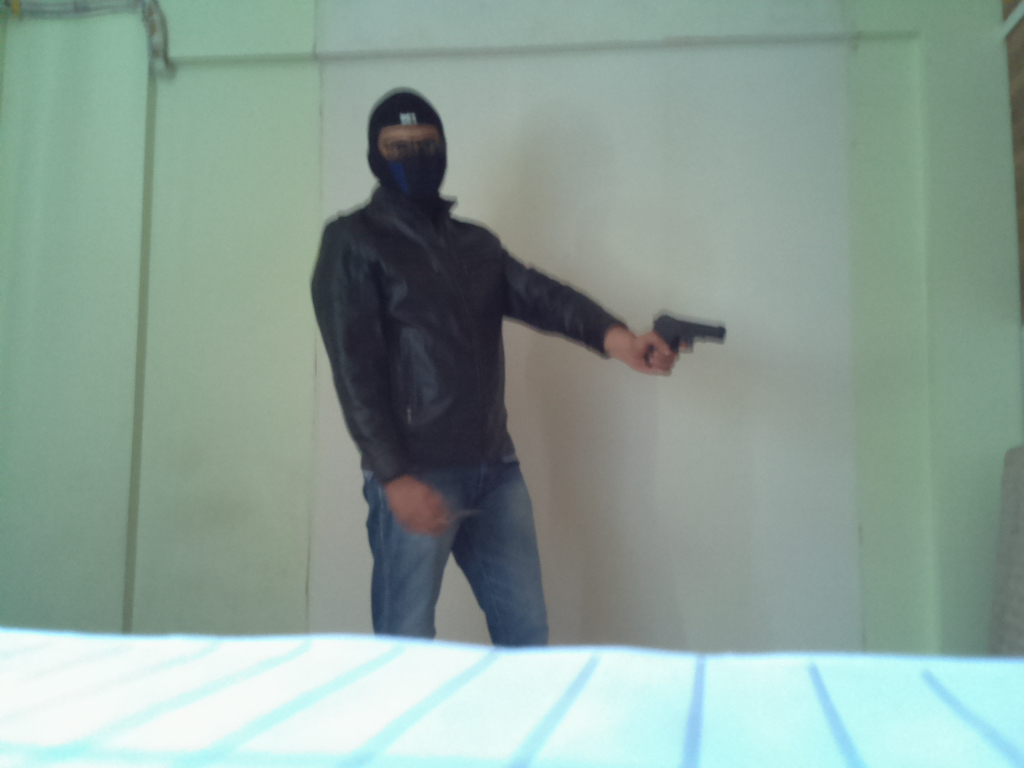gun: (644, 307, 730, 374)
